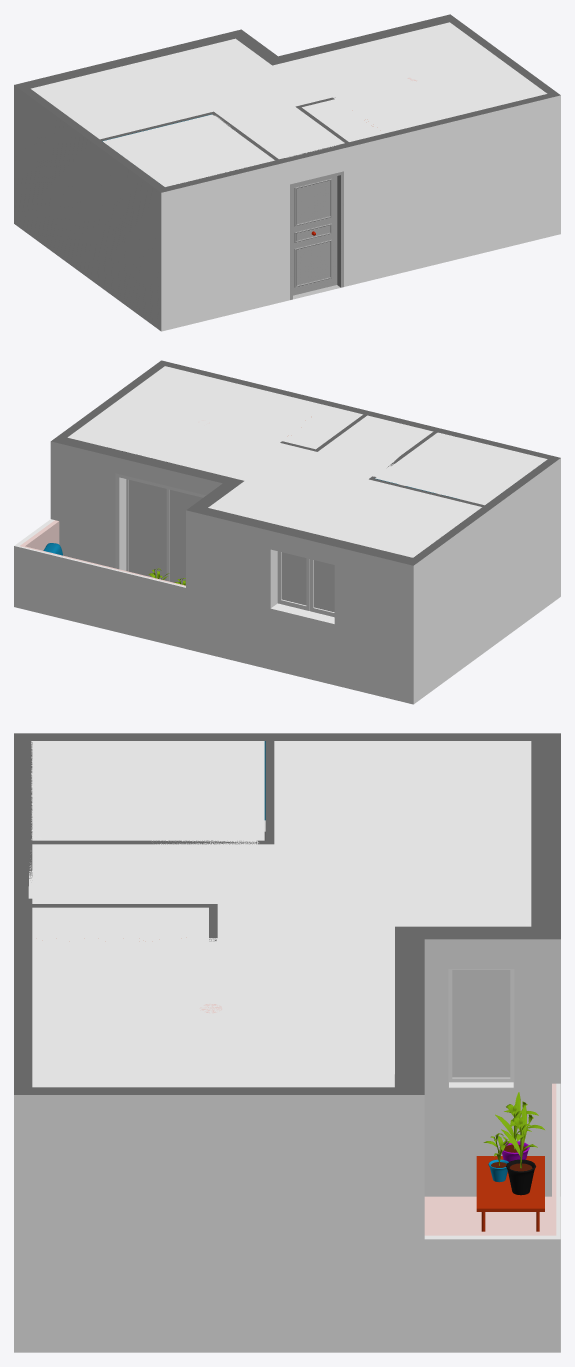
The model's file is TestModel.glb.
3 renders of one model, top to bottom at view 1: azimuth 30°, elevation 25°; view 2: azimuth 150°, elevation 25°; view 3: azimuth 270°, elevation 25°, orthographic. The views are drawn at different scales.
Visible parts, largest first — view 1: TestModel; view 2: TestModel; view 3: TestModel.
Boxes of the visible parts, x1,y1,x2,y2 form: TestModel: [14, 14, 560, 331]; TestModel: [14, 360, 560, 704]; TestModel: [14, 733, 560, 1352].
Bounding box in the file's own units: 753 × 250 × 481.
